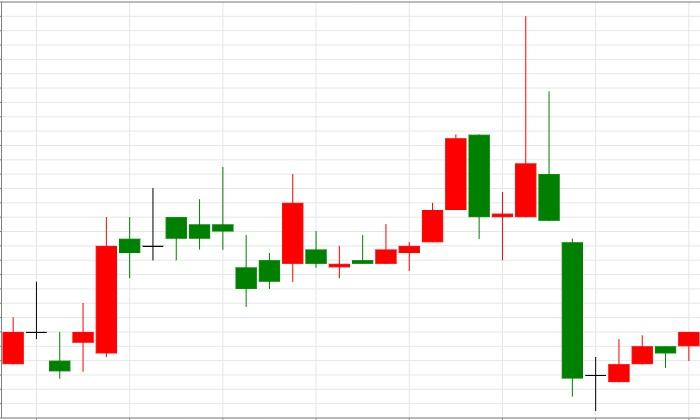bearish_engulfing_fall: (328, 134, 489, 277)
